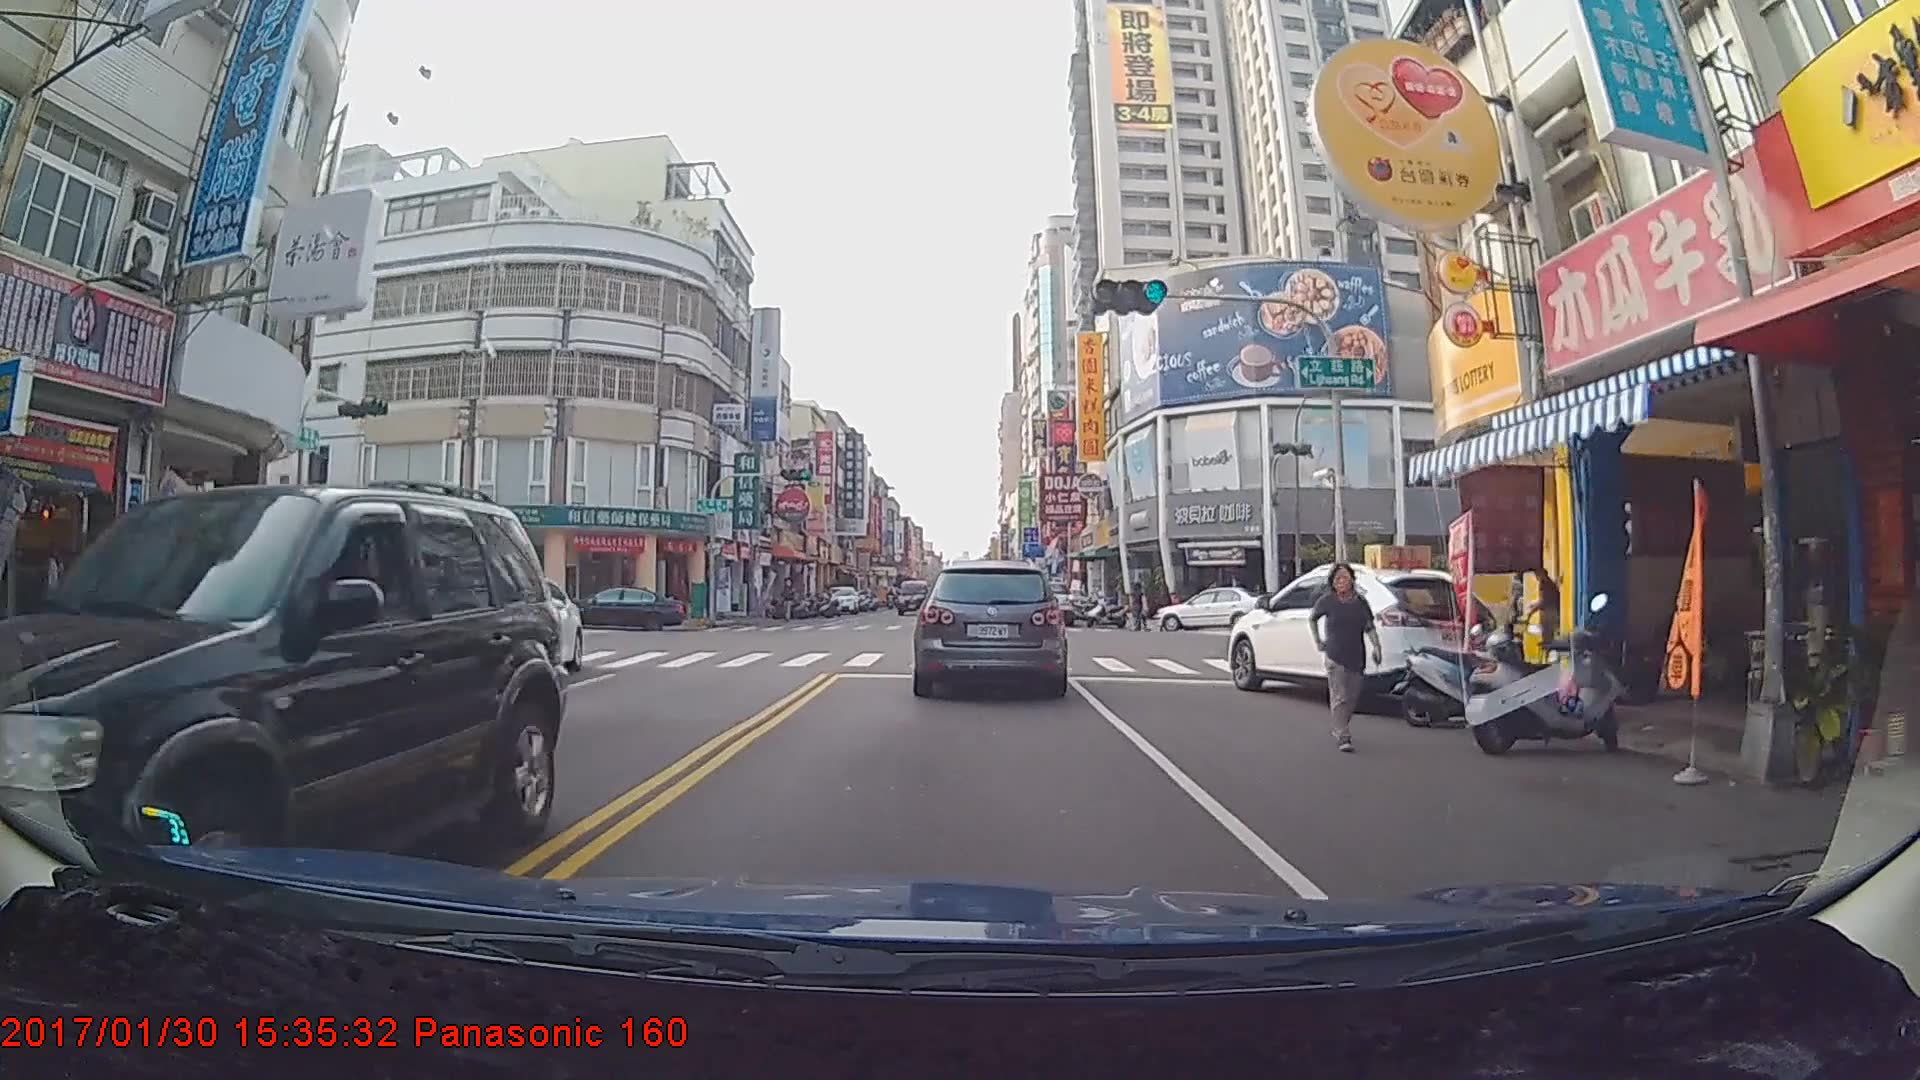pedestrian: (1315, 560, 1384, 752)
vehicle: (0, 486, 570, 940), (1227, 564, 1498, 714), (916, 556, 1064, 697), (552, 584, 687, 633), (1150, 585, 1278, 631), (894, 581, 930, 617), (820, 587, 861, 616)
